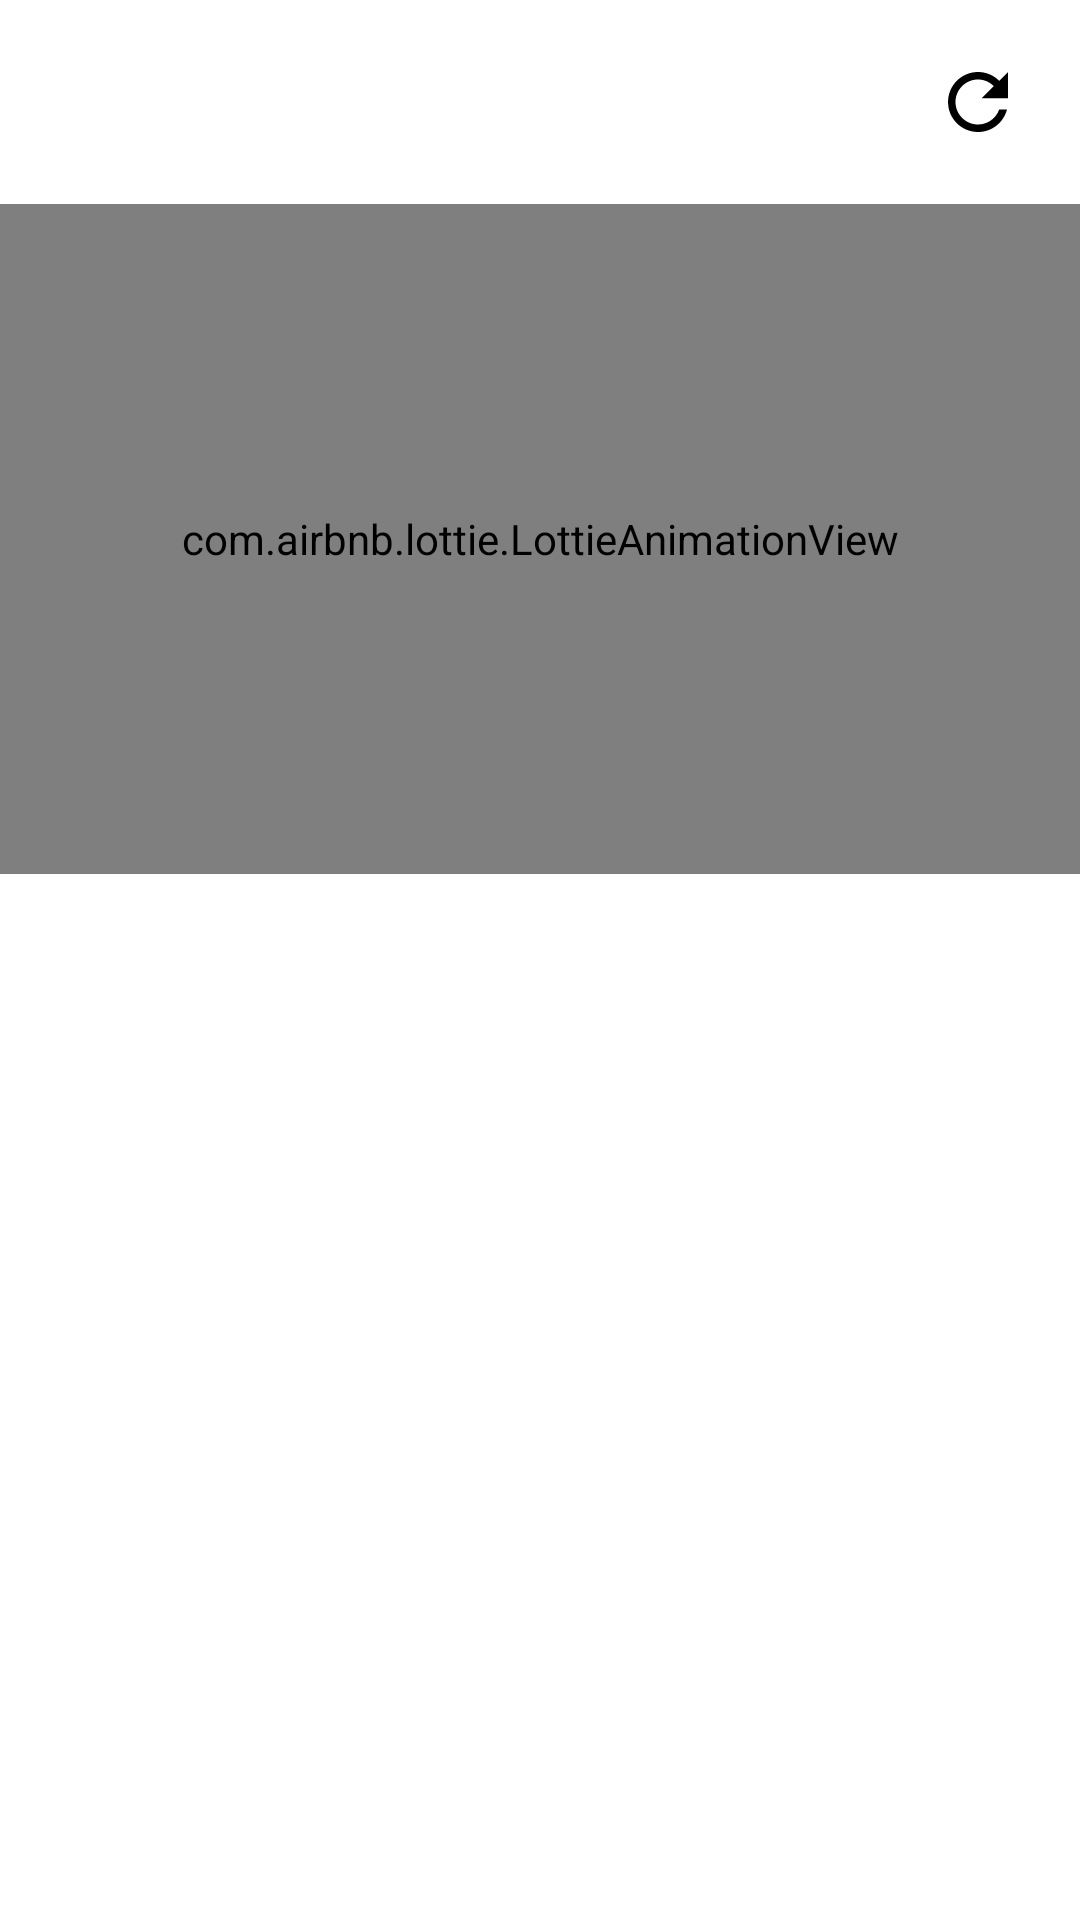

Screen size 1080w x 1920h. Icon name, then its box in pixels as {"x1": x1, "y1": y1, "x2": x2, "y2": y2}:
Refresh: {"x1": 948, "y1": 72, "x2": 1008, "y2": 132}
